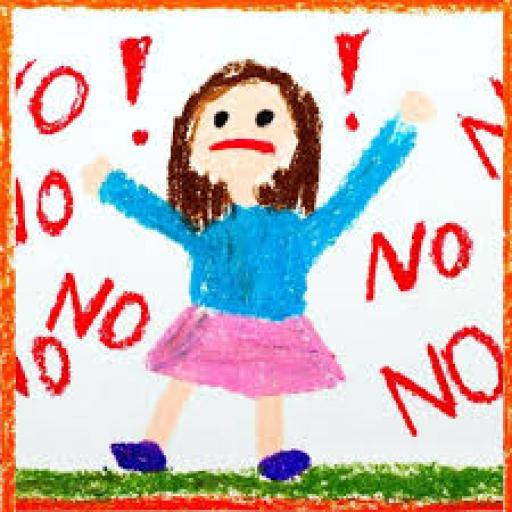person: (78, 60, 434, 486)
